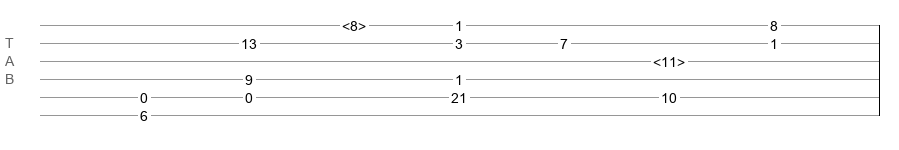0: (140, 90, 148, 100), (245, 90, 253, 100)
1: (455, 18, 463, 28), (455, 72, 463, 82), (770, 36, 778, 46)
10: (661, 90, 677, 100)
13: (241, 36, 257, 46)
21: (451, 90, 467, 100)
3: (455, 36, 463, 46)
6: (140, 108, 148, 118)
7: (560, 36, 568, 46)
8: (770, 18, 778, 28)
9: (245, 72, 253, 82)
harmonic: (653, 54, 685, 64), (342, 18, 366, 28)
